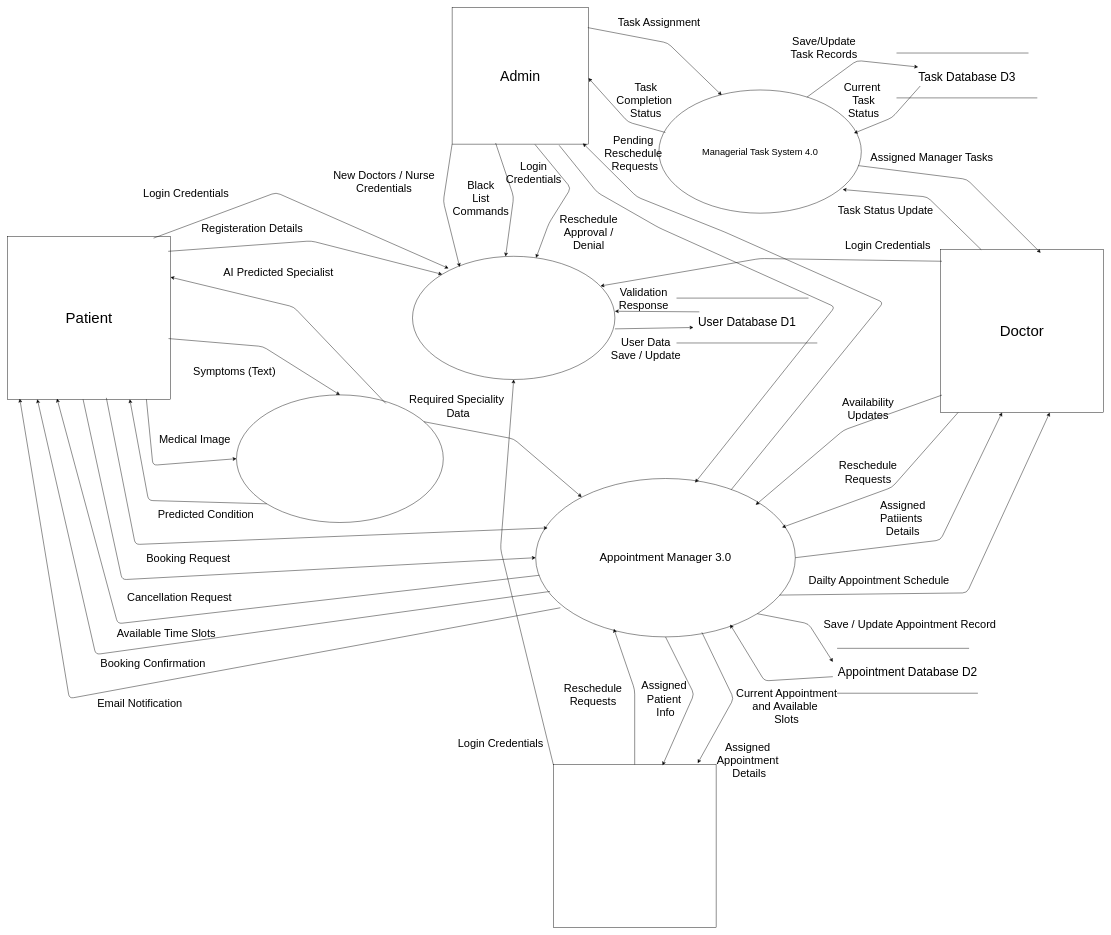
The diagram is 1111 pixels wide and 935 high, and some of its shapes have lost their labels. Each missing label, with the centre of its shape:
"AI Symptom Engine 2.0" belongs at (x=339, y=458).
"Nurses" belongs at (x=634, y=845).
"User Auth And Management 1.0" belongs at (x=513, y=318).
